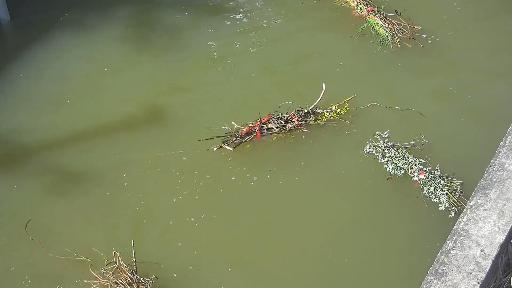twig: (195, 86, 438, 156), (362, 132, 496, 226), (1, 239, 163, 288), (319, 0, 419, 59)
